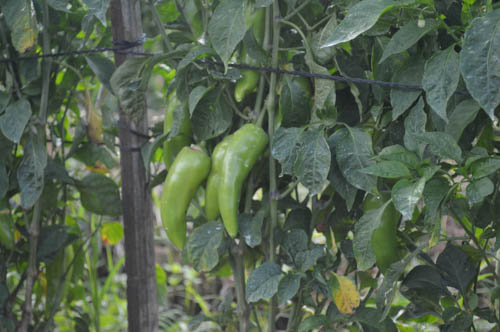ChiliPepper: (219, 125, 262, 239), (158, 145, 205, 249), (363, 197, 397, 268), (161, 105, 194, 161), (206, 143, 224, 220)
